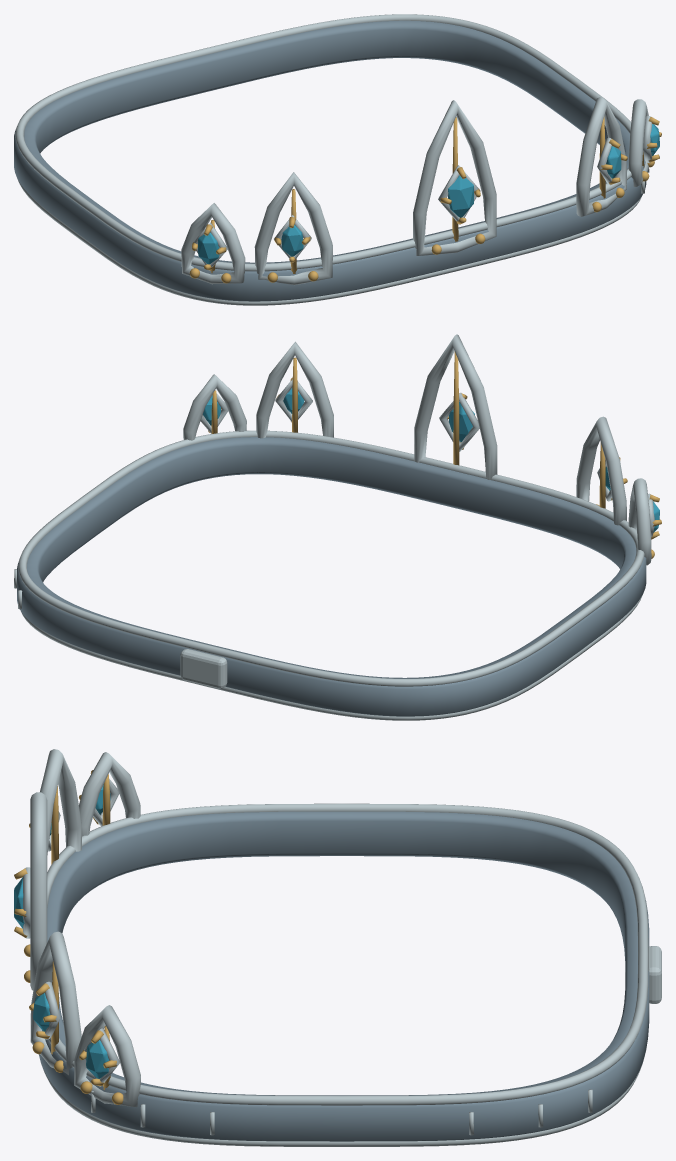
Rendered from runic-tiara.glb.
The picture shows the model from 3 angles, top to bottom: view 1: azimuth 30°, elevation 25°; view 2: azimuth 150°, elevation 25°; view 3: azimuth 270°, elevation 25°; orthographic projection. The views are drawn at different scales.
Parts seen in each view (by area): view 1: Runic Tiara Forged blue steel assembly, Runic Tiara Brushed silver edges assembly, Runic Tiara Aged warm brass assembly, Runic Tiara Runic blue stone assembly; view 2: Runic Tiara Forged blue steel assembly, Runic Tiara Brushed silver edges assembly, Runic Tiara Aged warm brass assembly, Runic Tiara Runic blue stone assembly; view 3: Runic Tiara Forged blue steel assembly, Runic Tiara Brushed silver edges assembly, Runic Tiara Aged warm brass assembly, Runic Tiara Runic blue stone assembly.
Part boxes in pixels (x1,y1,x2,y2): Runic Tiara Forged blue steel assembly: (14,20,646,301); Runic Tiara Brushed silver edges assembly: (15,14,652,305); Runic Tiara Aged warm brass assembly: (189,116,661,283); Runic Tiara Runic blue stone assembly: (198,124,659,264); Runic Tiara Forged blue steel assembly: (17,437,646,716); Runic Tiara Brushed silver edges assembly: (14,334,654,720); Runic Tiara Aged warm brass assembly: (208,351,661,558); Runic Tiara Runic blue stone assembly: (203,388,659,532); Runic Tiara Forged blue steel assembly: (39,811,649,1141); Runic Tiara Brushed silver edges assembly: (23,749,661,1146); Runic Tiara Aged warm brass assembly: (14,770,123,1104); Runic Tiara Runic blue stone assembly: (14,785,110,1078).
Size of the model in its own units: 0.794 by 0.2591 by 0.7309.
